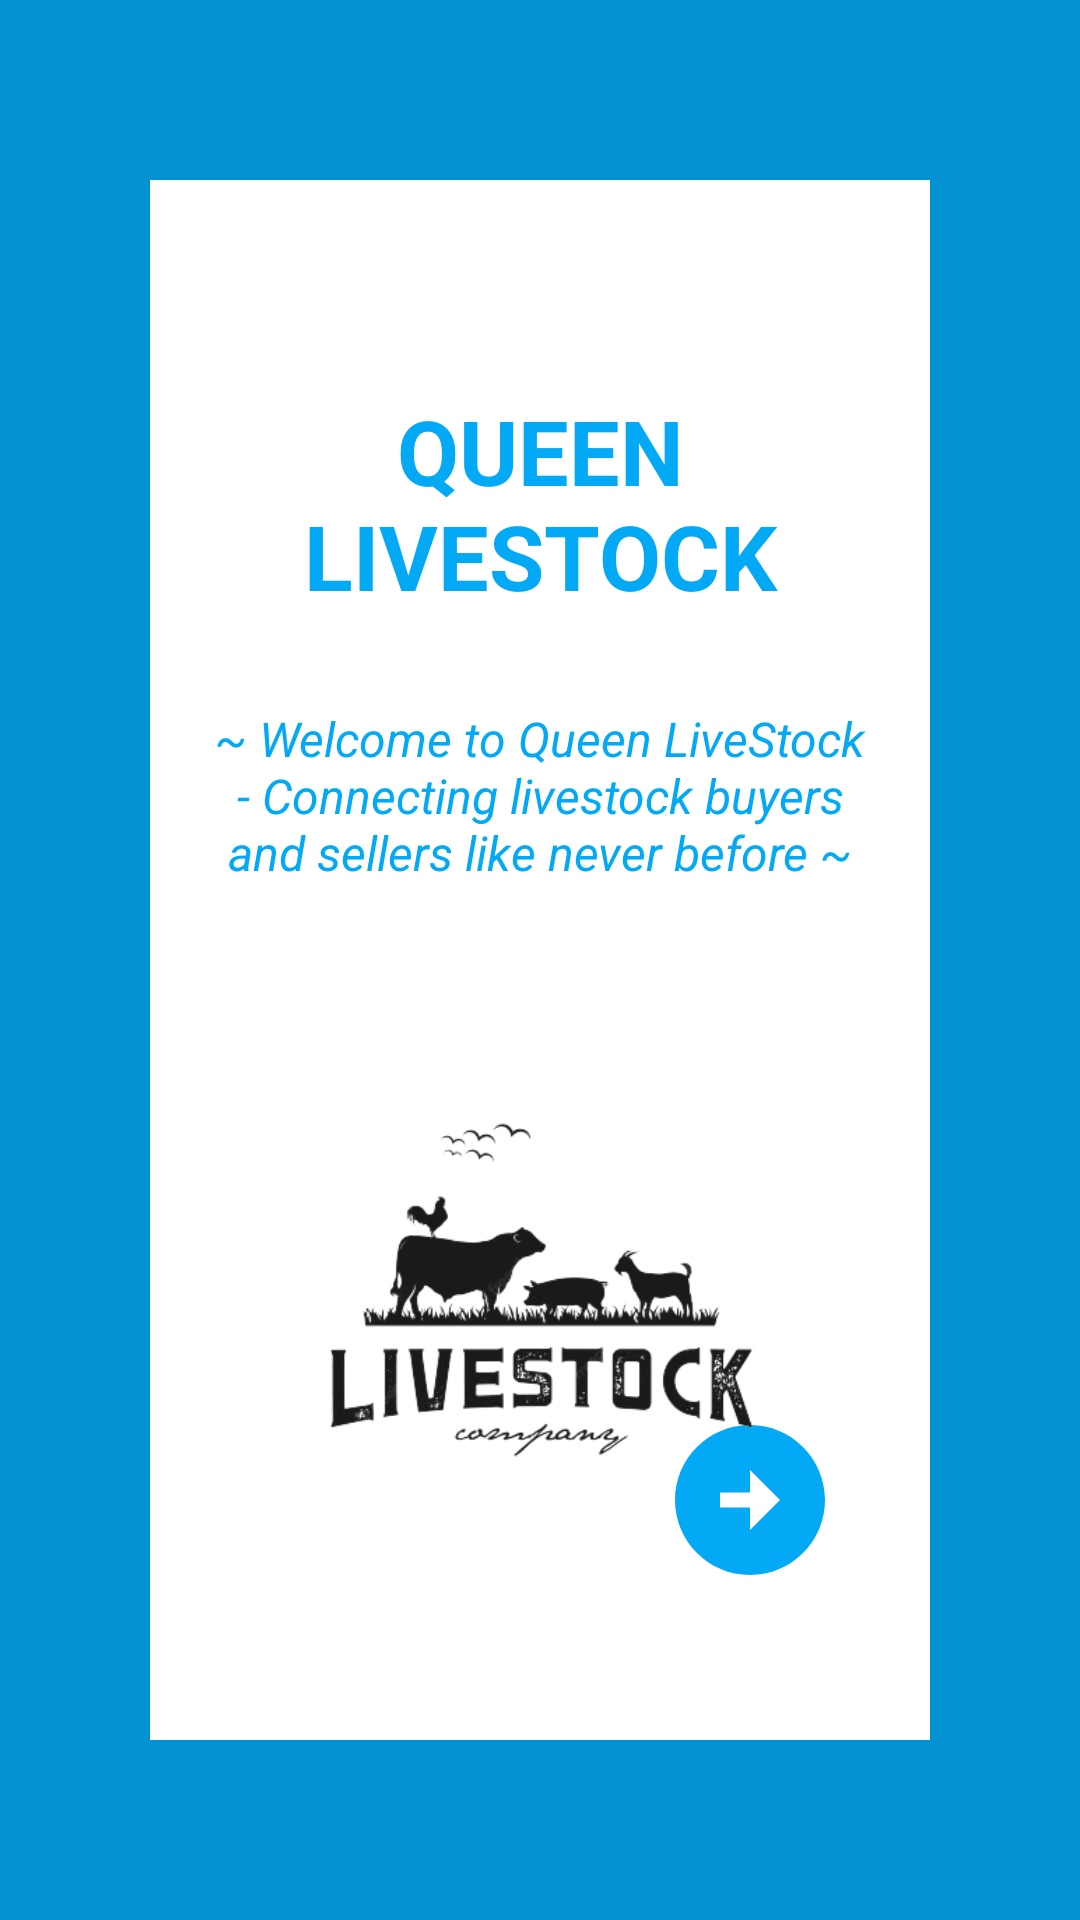

Icon click points for this 1080x1920 phone screenshot, format (x,y):
arrow circle right: (750,1492)
